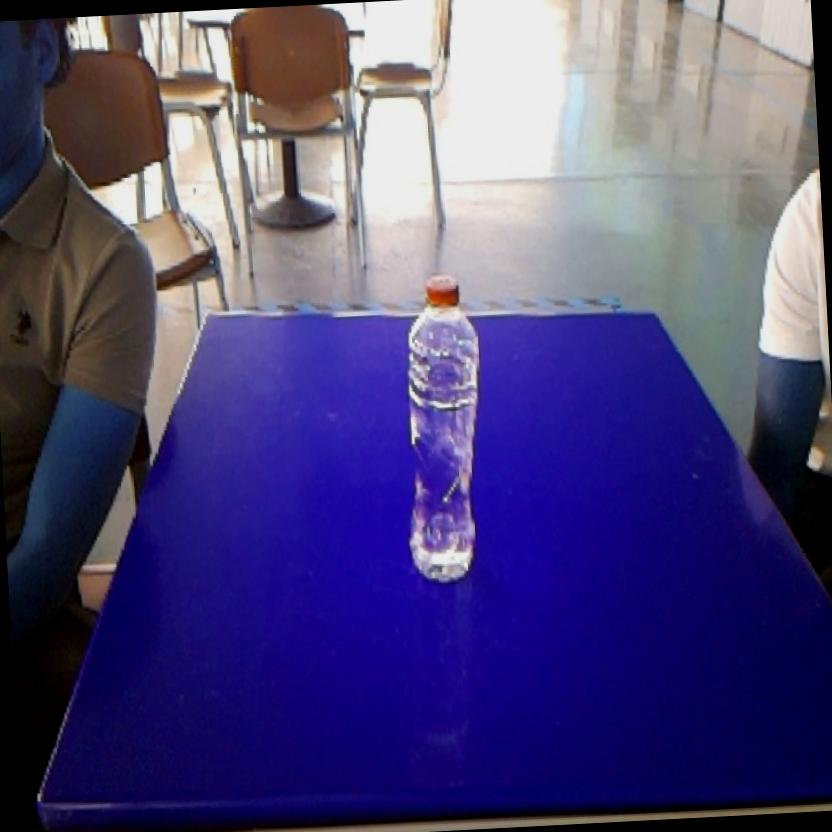no_label: (387, 257, 498, 593)
